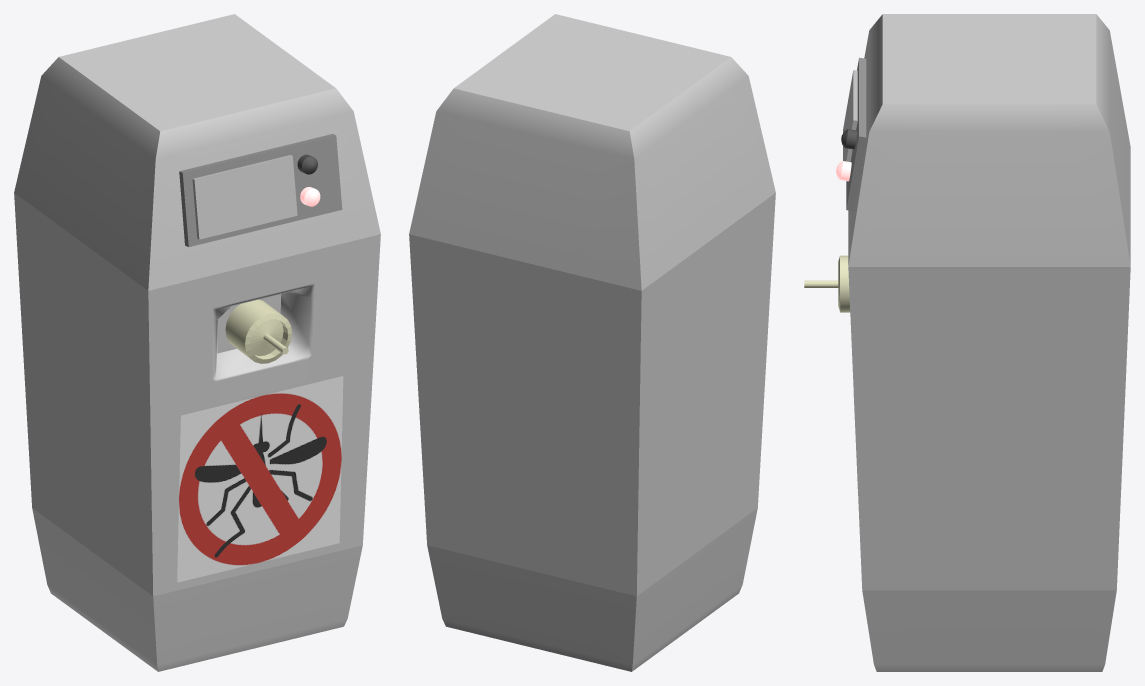
File: WallmountedSpray.fbx
The picture shows the model from 3 angles, left to right: view 1: azimuth 30°, elevation 25°; view 2: azimuth 150°, elevation 25°; view 3: azimuth 270°, elevation 25°; orthographic projection. The views are drawn at different scales.
Parts seen in each view (by area): view 1: SprayBody, pPlane1, SensorScreenthing, SensorBody, SprayTube; view 2: SprayBody; view 3: SprayBody, SensorBody, SprayTube, SensorScreenthing.
Part boxes in pixels (x1,y1,x2,y2): SprayBody: [14, 14, 380, 671]; pPlane1: [177, 376, 343, 582]; SensorScreenthing: [192, 155, 297, 239]; SensorBody: [179, 134, 342, 246]; SprayTube: [225, 299, 291, 363]; SprayBody: [409, 14, 775, 671]; SprayBody: [848, 14, 1130, 671]; SensorBody: [846, 57, 866, 210]; SprayTube: [804, 255, 850, 312]; SensorScreenthing: [843, 70, 857, 161].
Bounding box in the file's own units: 0.8932 × 1.97 × 1.03.
7 materials, 1 textured.
